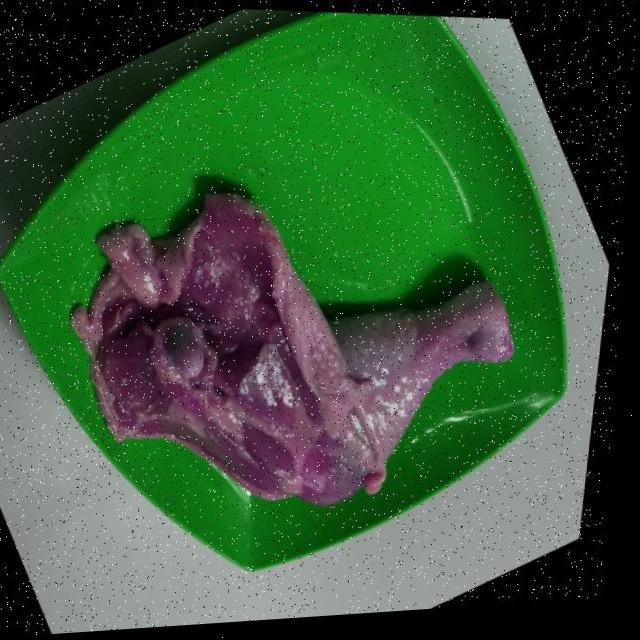quater: (61, 164, 522, 529)
